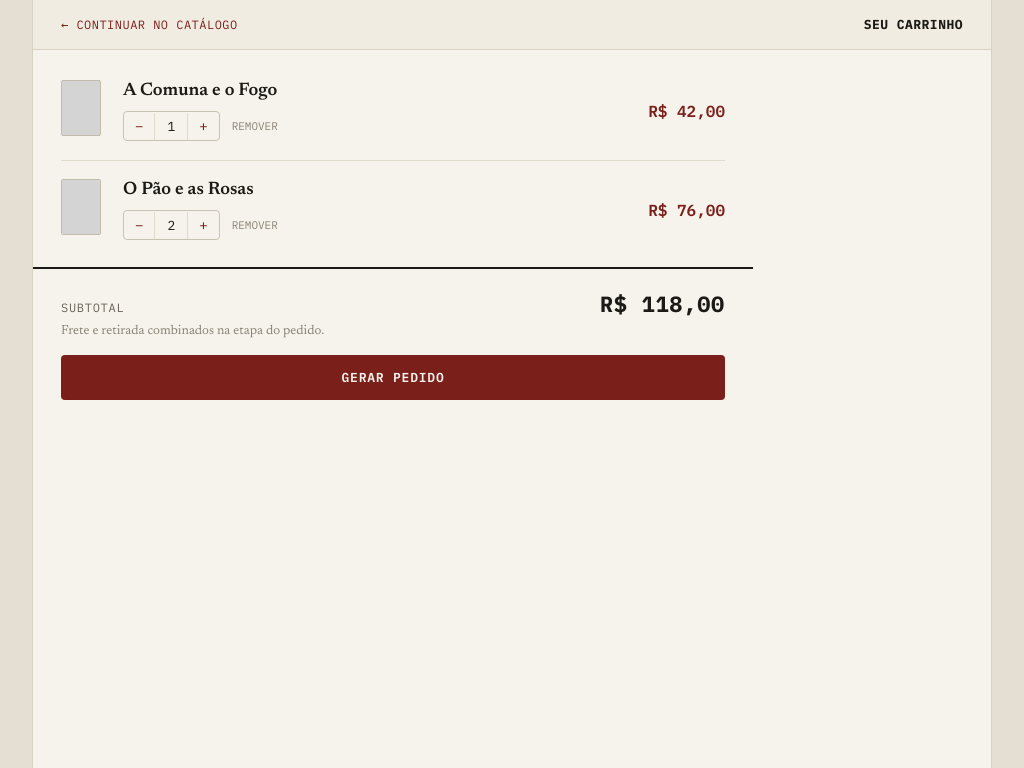
Scenario: Carrinho › stepper altera quantidade e atualiza subtotal
Step 1. Click the button "+" below "A Comuna e o Fogo" → (203, 126), box [188,112,219,140]
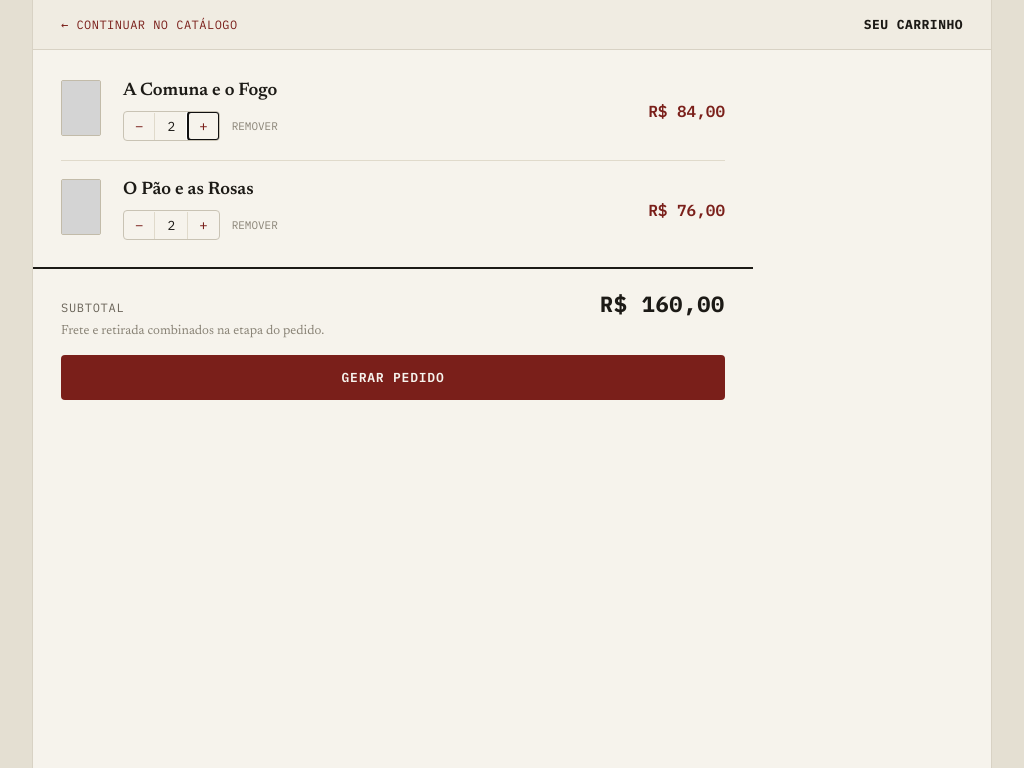
Expected: the text "R$ 160,00" is shown, [600,289,725,318]
